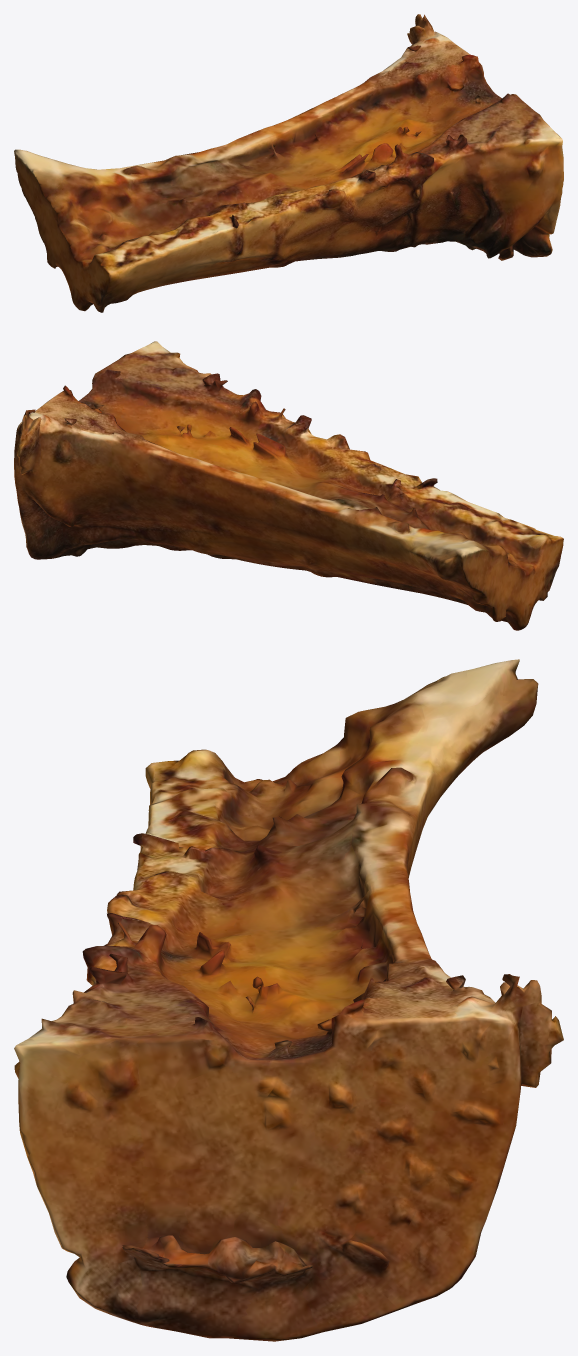
Rendered from marrow.glb.
3 views of the same model, one above another, from view 1: azimuth 30°, elevation 25°; view 2: azimuth 150°, elevation 25°; view 3: azimuth 270°, elevation 25° (orthographic). The views are drawn at different scales.
Parts seen in each view (by area): view 1: tripo_node_0f759bb1-6168-49c9-bc29-1156f94d39b3; view 2: tripo_node_0f759bb1-6168-49c9-bc29-1156f94d39b3; view 3: tripo_node_0f759bb1-6168-49c9-bc29-1156f94d39b3.
Part boxes in pixels (x1=…): tripo_node_0f759bb1-6168-49c9-bc29-1156f94d39b3: x1=14, y1=14, x2=563, y2=312; tripo_node_0f759bb1-6168-49c9-bc29-1156f94d39b3: x1=14, y1=341, x2=563, y2=630; tripo_node_0f759bb1-6168-49c9-bc29-1156f94d39b3: x1=14, y1=659, x2=563, y2=1341.
Size of the model in its own units: 0.9801 by 0.3773 by 0.5372.
1 material, 1 textured.
